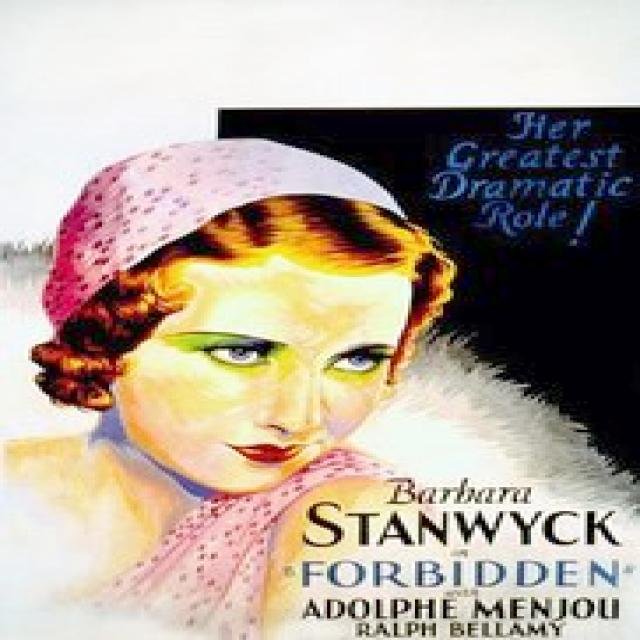movie-judul: (284, 472, 640, 640)
picture: (27, 124, 469, 628)
